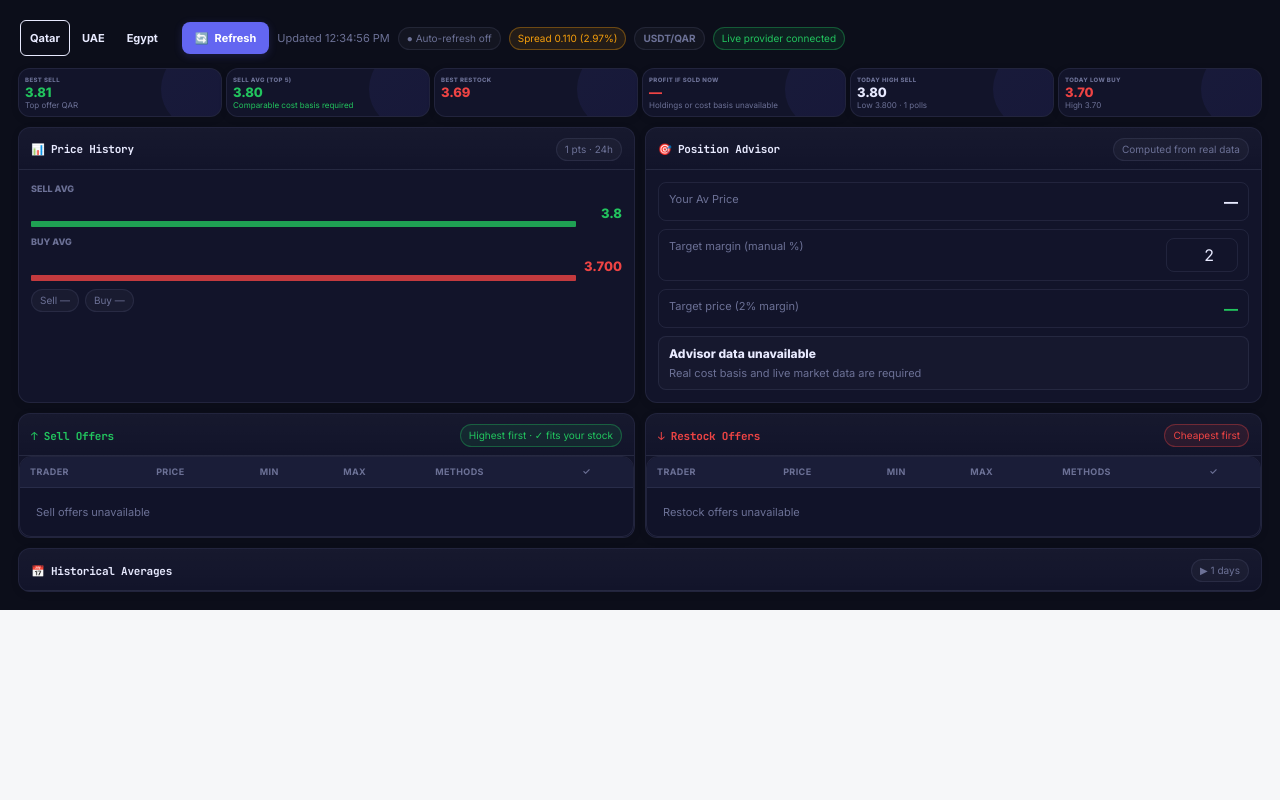
Scenario: P2PTrackerPage › updates the pair badge when switching markets so currency labels match the selected market
The image size is (1280, 800).
Expected: the text with test id "pair-badge" reads "USDT/QAR", [643,32,696,44]
Click the button "UAE". click: (93, 38)
box: [72,20,115,56]
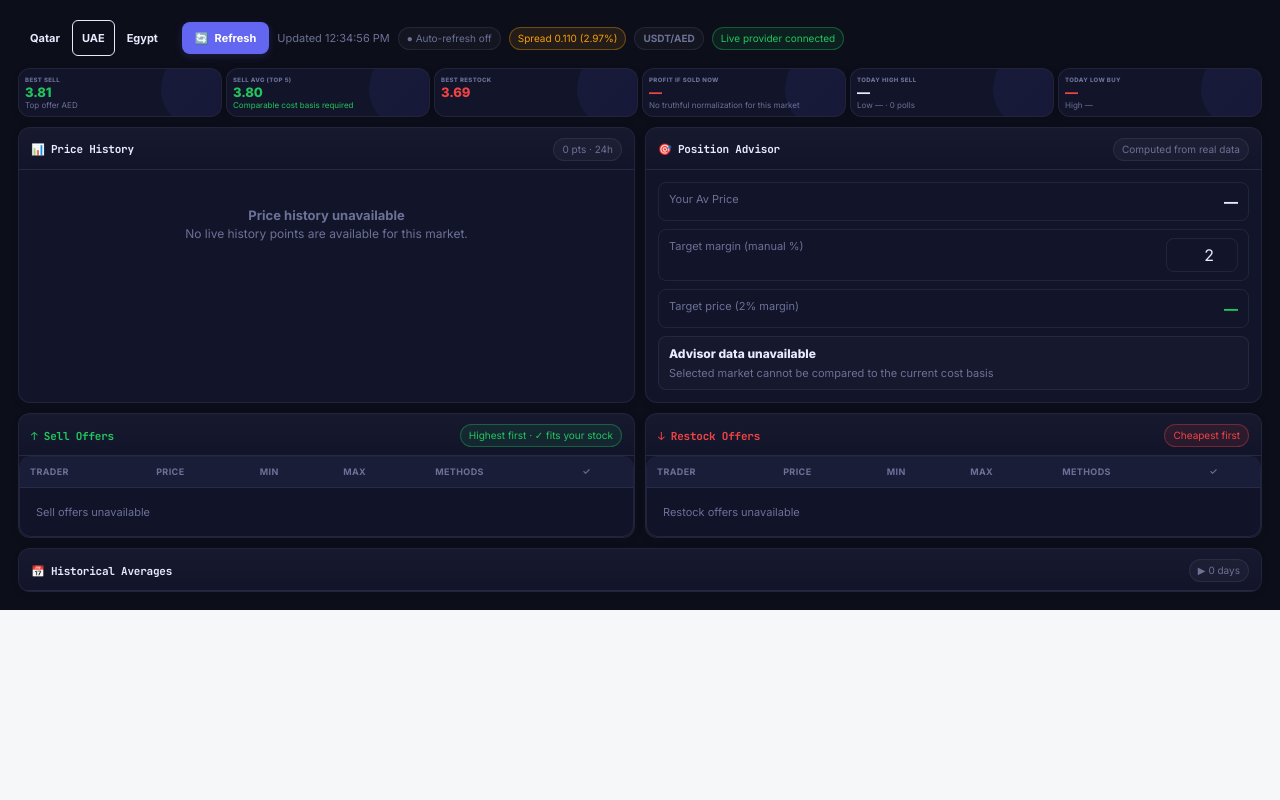
Expected: the text with test id "pair-badge" reads "USDT/AED", [643,32,695,44]
